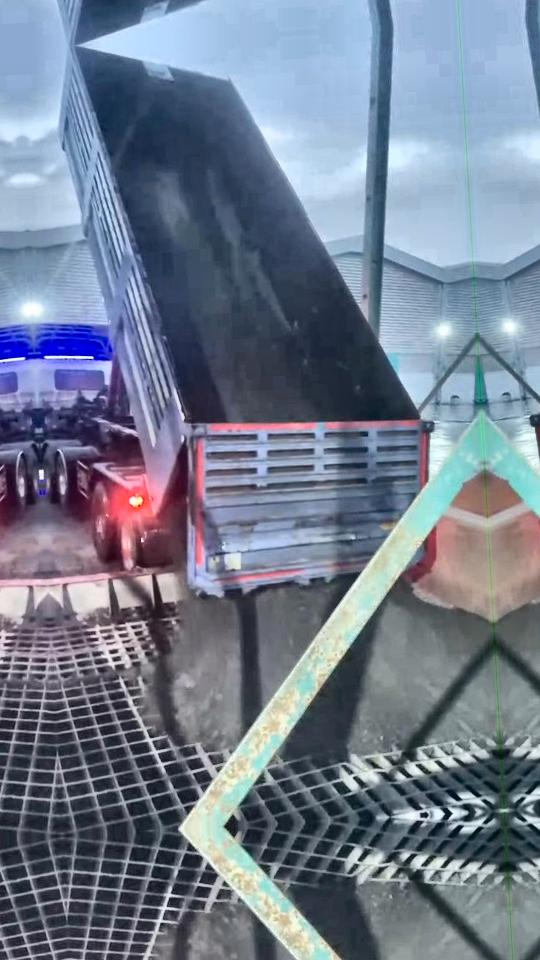gravel: (281, 581, 498, 760), (146, 574, 355, 750), (190, 261, 408, 422), (87, 667, 139, 681)
sand: (452, 470, 487, 517)
